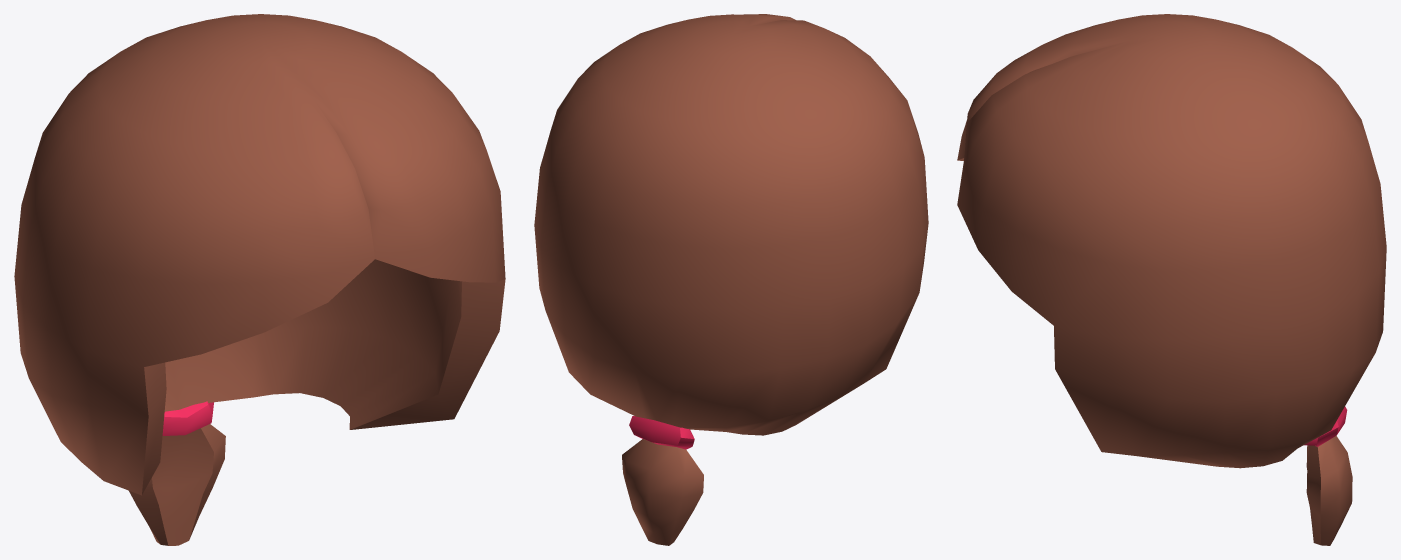
File: mageHairB.fbx
The picture shows the model from 3 angles, left to right: view 1: azimuth 30°, elevation 25°; view 2: azimuth 150°, elevation 25°; view 3: azimuth 270°, elevation 25°; orthographic projection. The views are drawn at different scales.
Visible parts, largest first — view 1: mageHairB; view 2: mageHairB; view 3: mageHairB.
Part boxes in pixels (x1,y1,x2,y2): mageHairB: [14, 14, 505, 545]; mageHairB: [534, 14, 928, 545]; mageHairB: [957, 14, 1386, 545].
Size of the model in its own units: 1.11 by 1.42 by 1.09.
